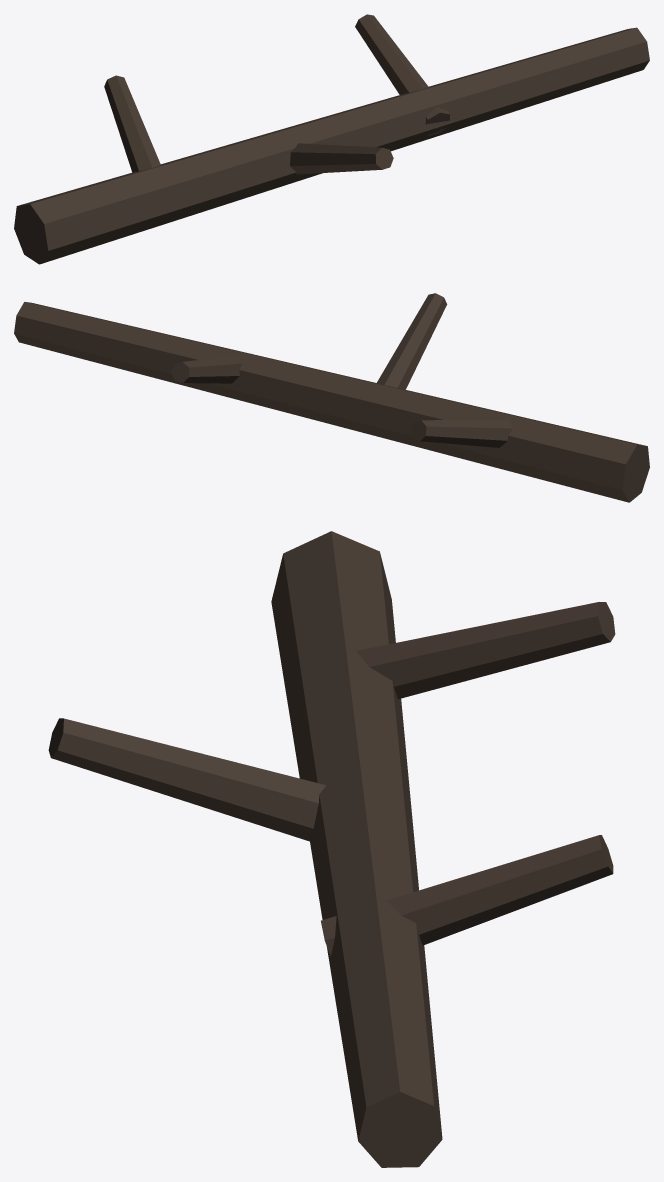
File: fallen_branch_a.glb
The picture shows the model from 3 angles, top to bottom: view 1: azimuth 30°, elevation 25°; view 2: azimuth 150°, elevation 25°; view 3: azimuth 270°, elevation 25°; orthographic projection. The views are drawn at different scales.
Parts seen in each view (by area): view 1: fallen_branch_a; view 2: fallen_branch_a; view 3: fallen_branch_a.
Part boxes in pixels (x1,y1,x2,y2): fallen_branch_a: (14,14,649,264); fallen_branch_a: (14,293,649,502); fallen_branch_a: (48,531,615,1167).
Size of the model in its own units: 2.01 by 0.2907 by 0.8242.
